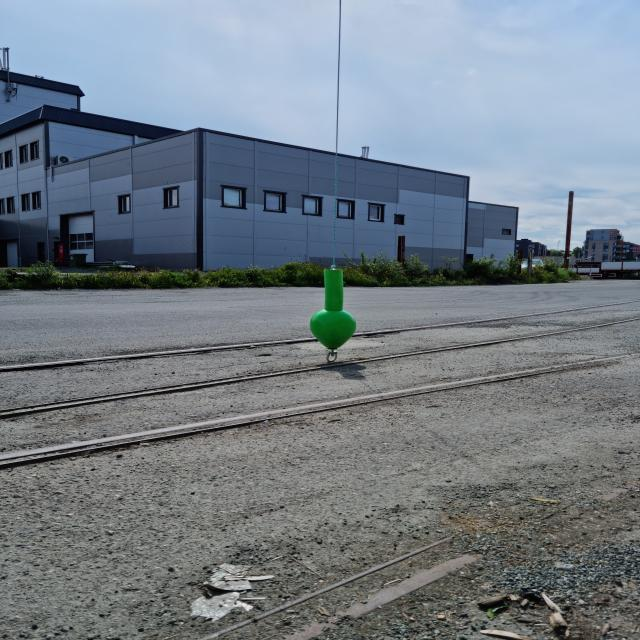green: (309, 270, 357, 350)
